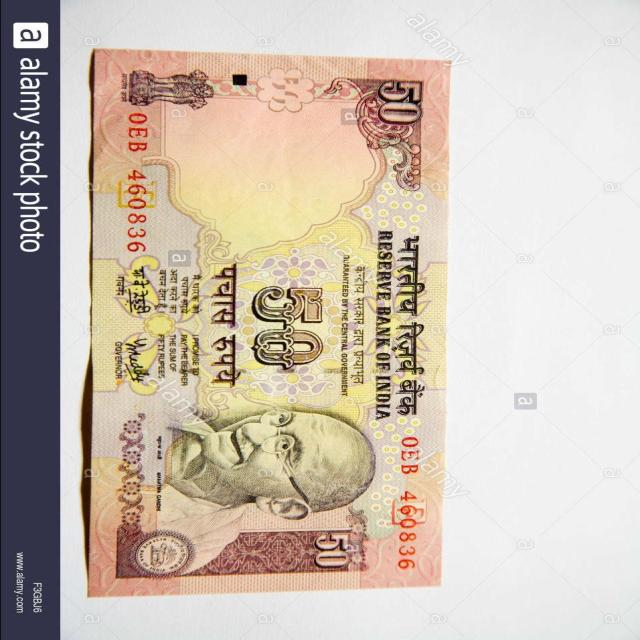50IndianRupees: (90, 65, 440, 581)
